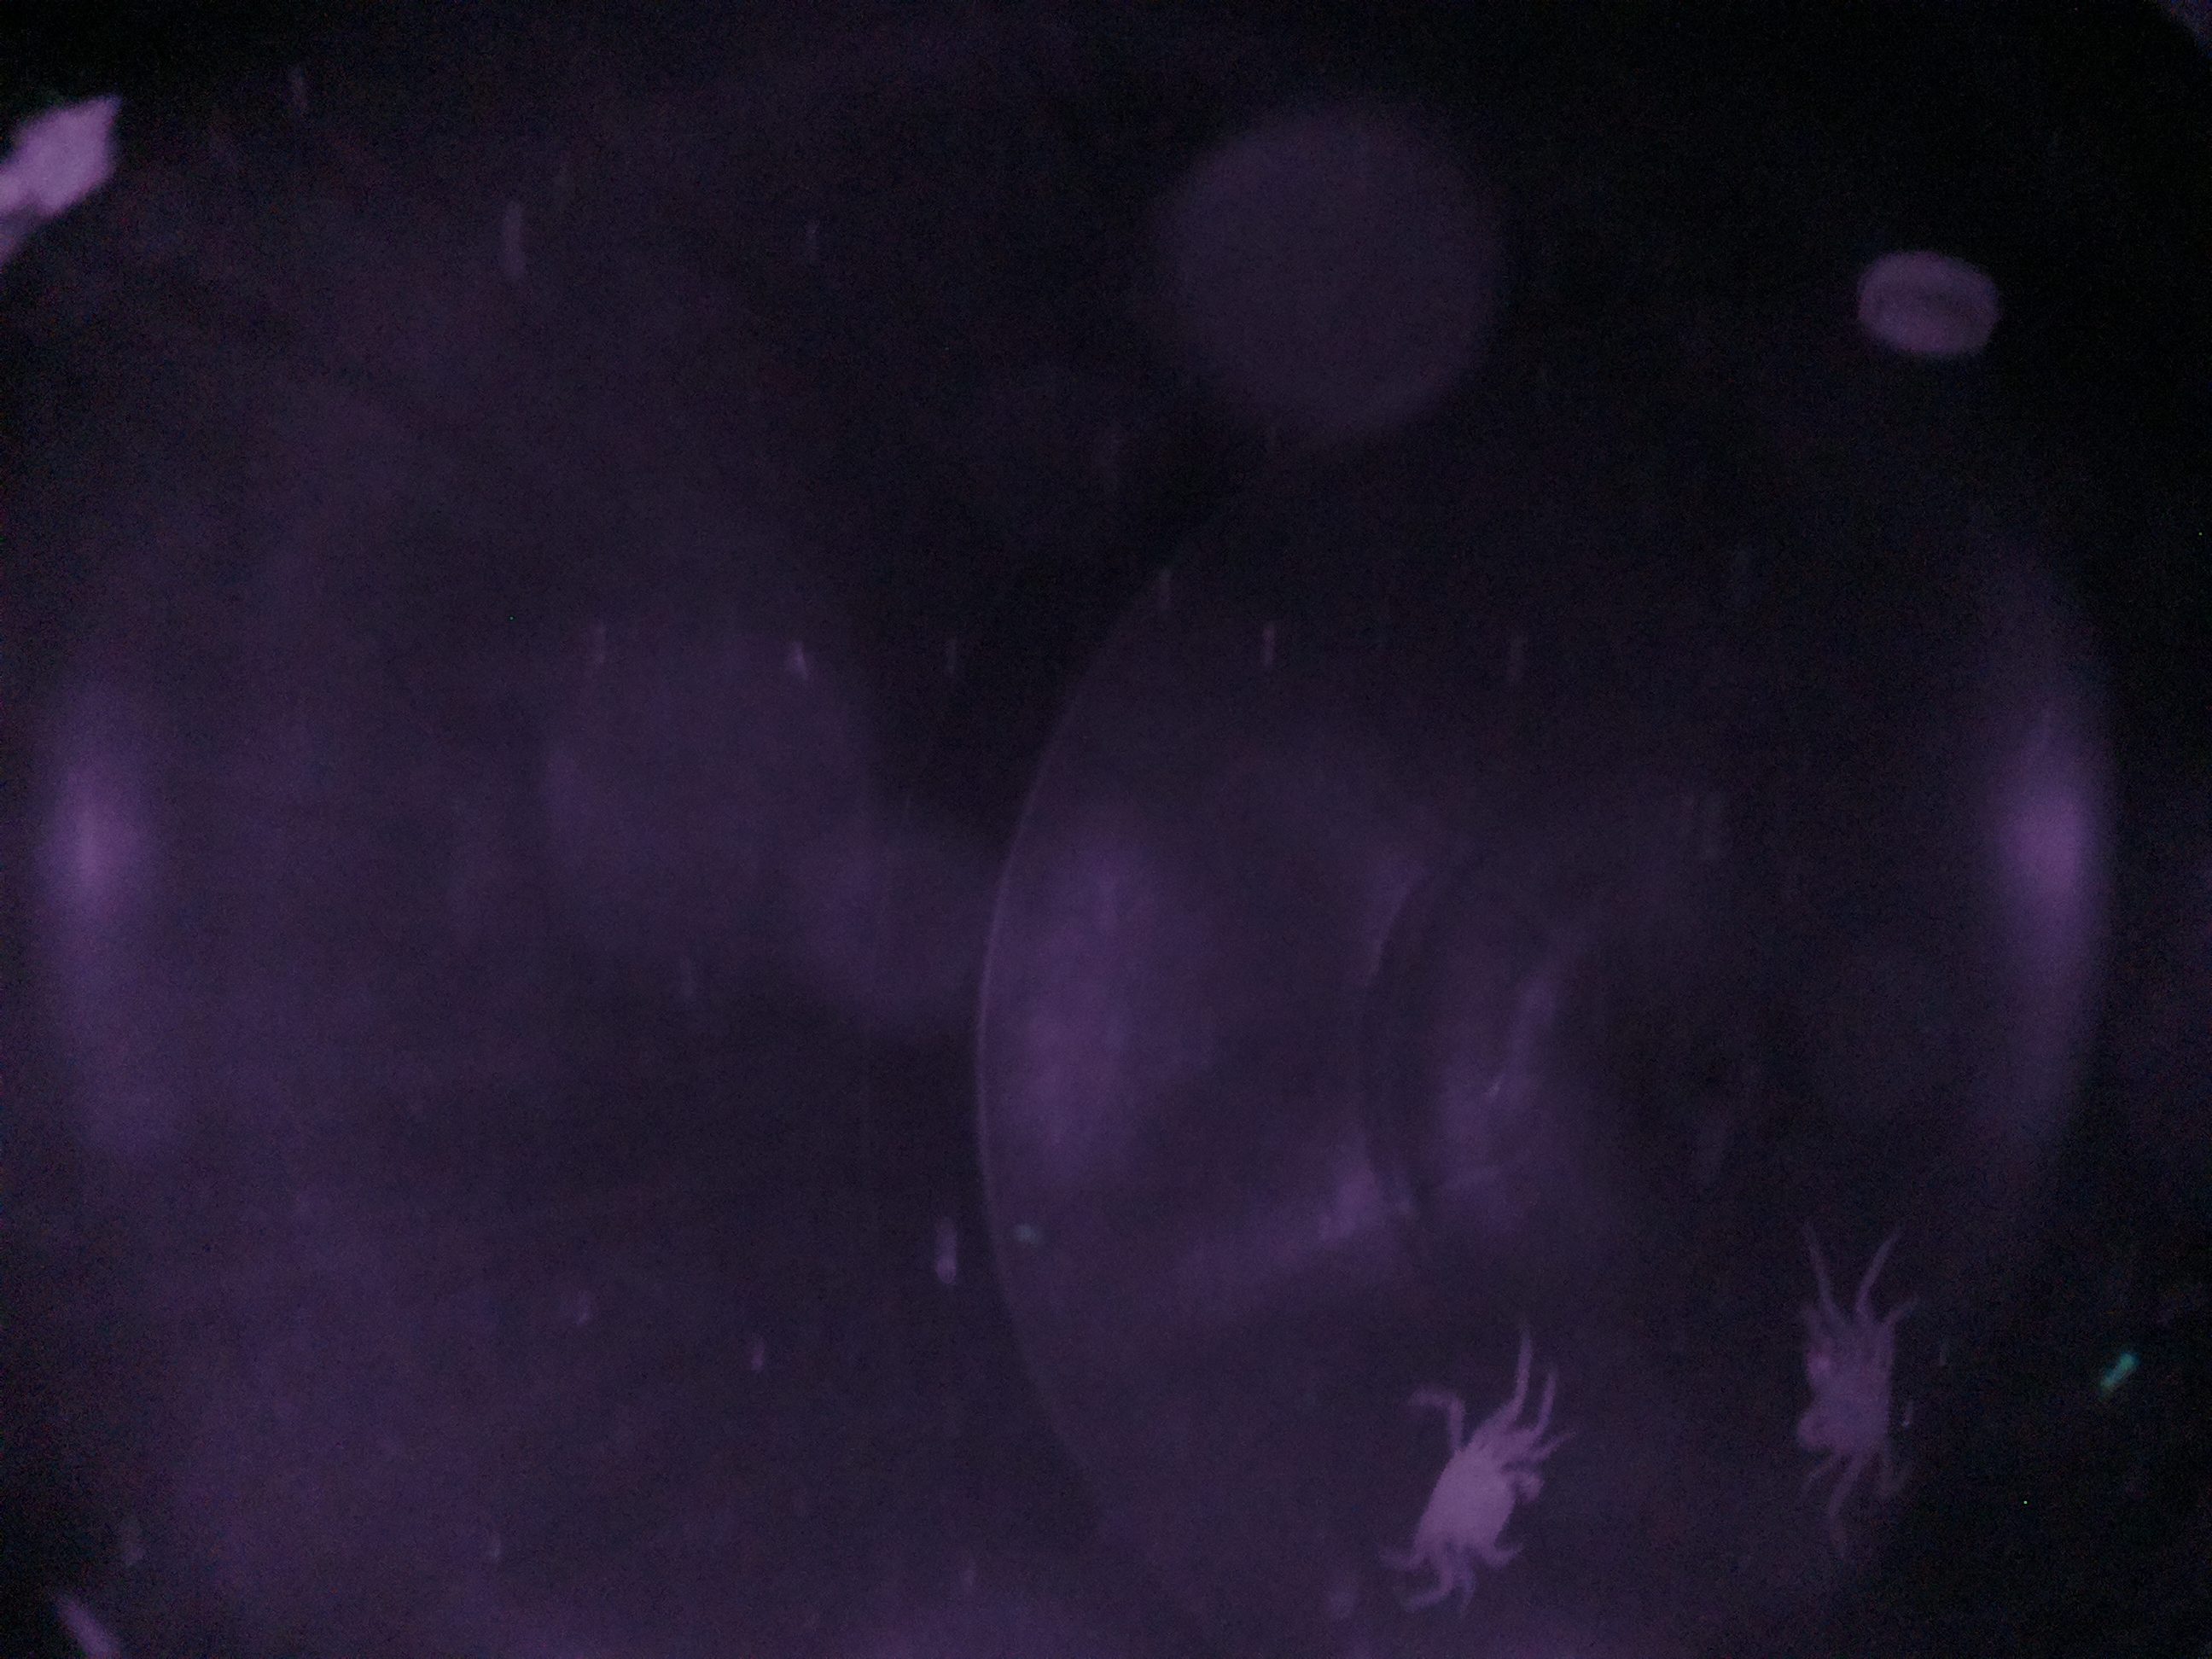Crab: (1397, 1408, 1548, 1593)
